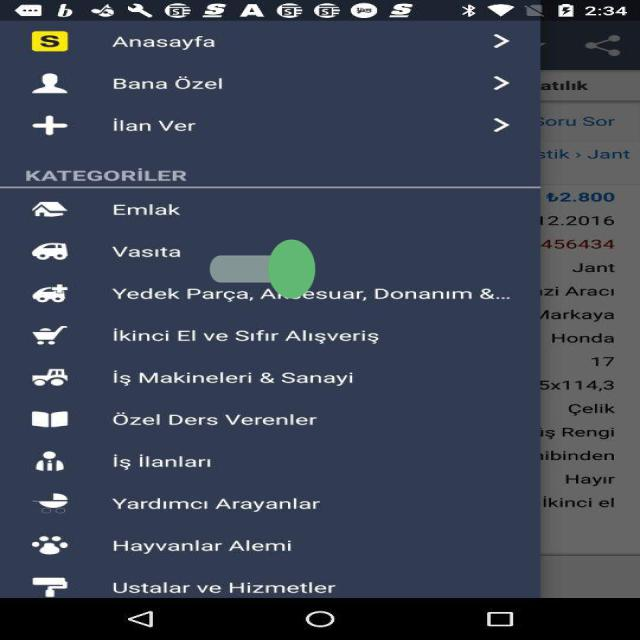social proof: (210, 203, 315, 335)
